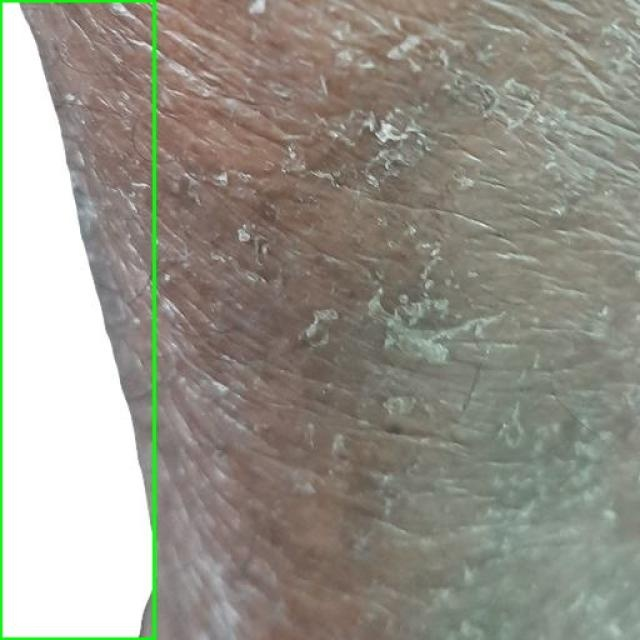Tinea Corporis: (0, 0, 154, 639)
